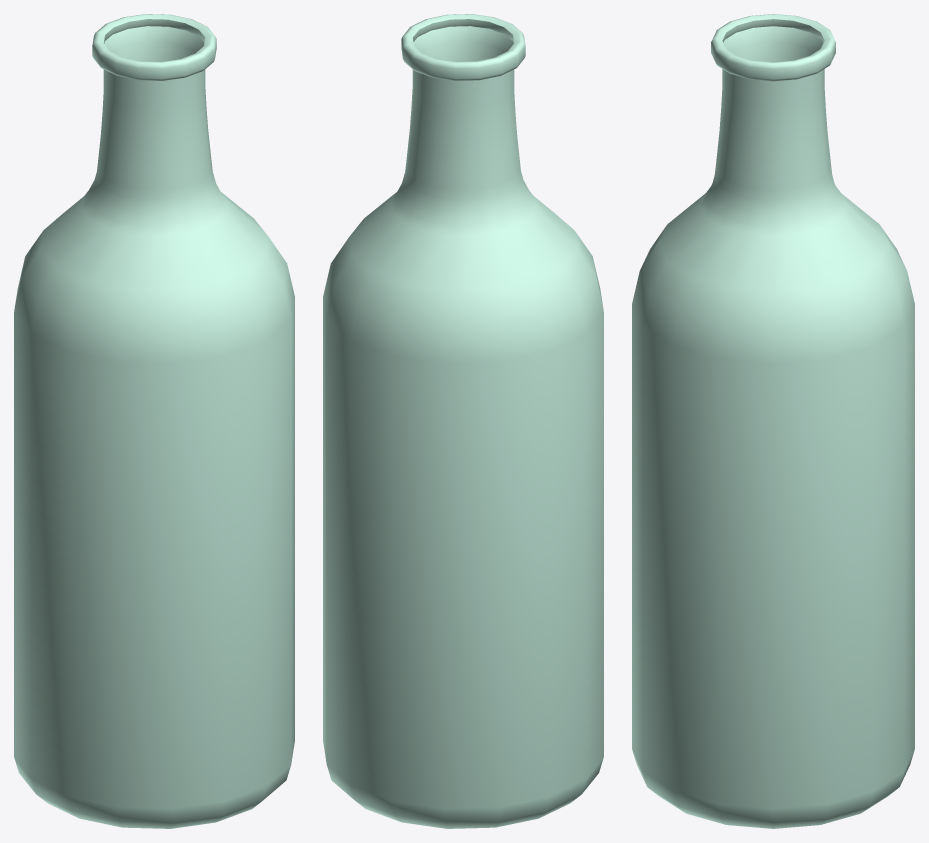
The model's file is bottle.fbx.
3 renders of one model, left to right at view 1: azimuth 30°, elevation 25°; view 2: azimuth 150°, elevation 25°; view 3: azimuth 270°, elevation 25°, orthographic.
Visible parts, largest first — view 1: Object_2; view 2: Object_2; view 3: Object_2.
Boxes of the visible parts, box(x1,y1,x2,y2) form: Object_2: box(14, 14, 294, 828); Object_2: box(323, 14, 603, 828); Object_2: box(632, 14, 914, 828).
Bounding box in the file's own units: 169 × 490 × 169.
